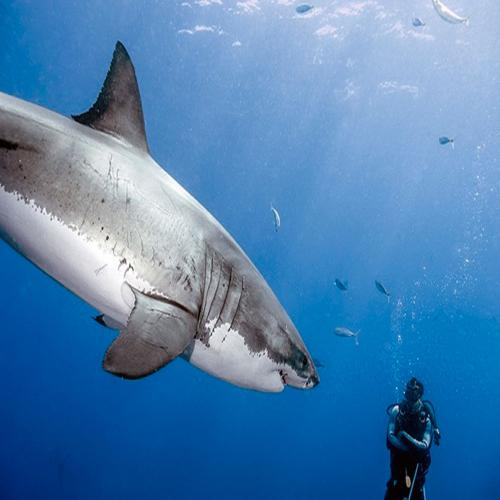shark-endangered: (0, 48, 323, 402)
